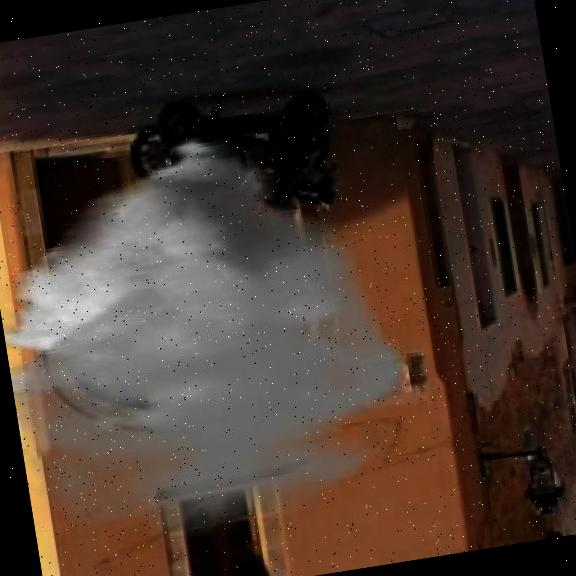smoke: (0, 96, 405, 541)
